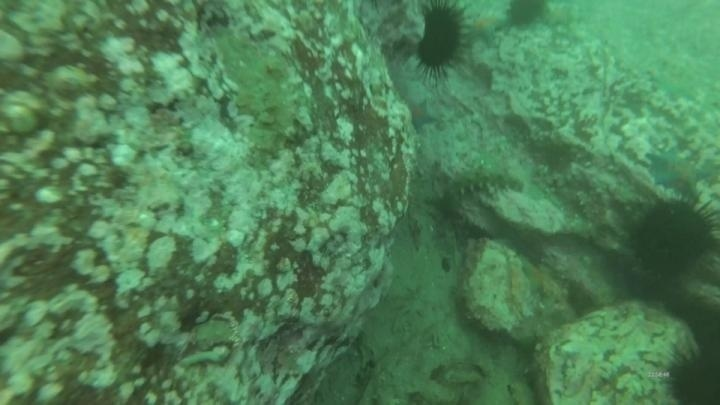echinus: (624, 194, 719, 282), (410, 1, 471, 81), (660, 343, 719, 405), (503, 0, 551, 31)
holothurian: (441, 162, 526, 200)
starfish: (643, 145, 714, 200), (649, 68, 702, 104), (462, 9, 510, 46), (519, 259, 555, 298), (404, 96, 439, 133)
